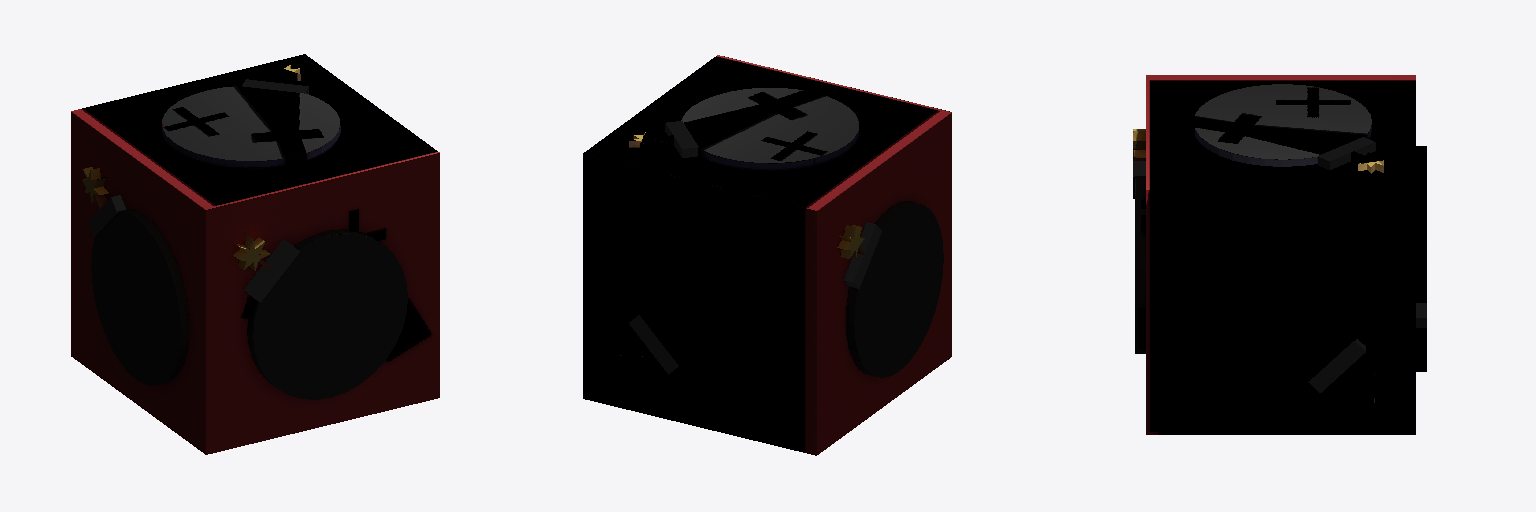
The picture shows the model from 3 angles: view 1: azimuth 30°, elevation 25°; view 2: azimuth 150°, elevation 25°; view 3: azimuth 270°, elevation 25°; orthographic projection.
Parts seen in each view (by area): view 1: Circle.001_Circle.021; view 2: Circle.001_Circle.021; view 3: Circle.001_Circle.021.
Part boxes in pixels (left/top/right/bottom): Circle.001_Circle.021: left=71, top=54, right=439, bottom=454; Circle.001_Circle.021: left=583, top=55, right=951, bottom=455; Circle.001_Circle.021: left=1133, top=75, right=1426, bottom=434.
Size of the model in its own units: 2.16 by 2.16 by 2.17.
5 materials, 1 textured.